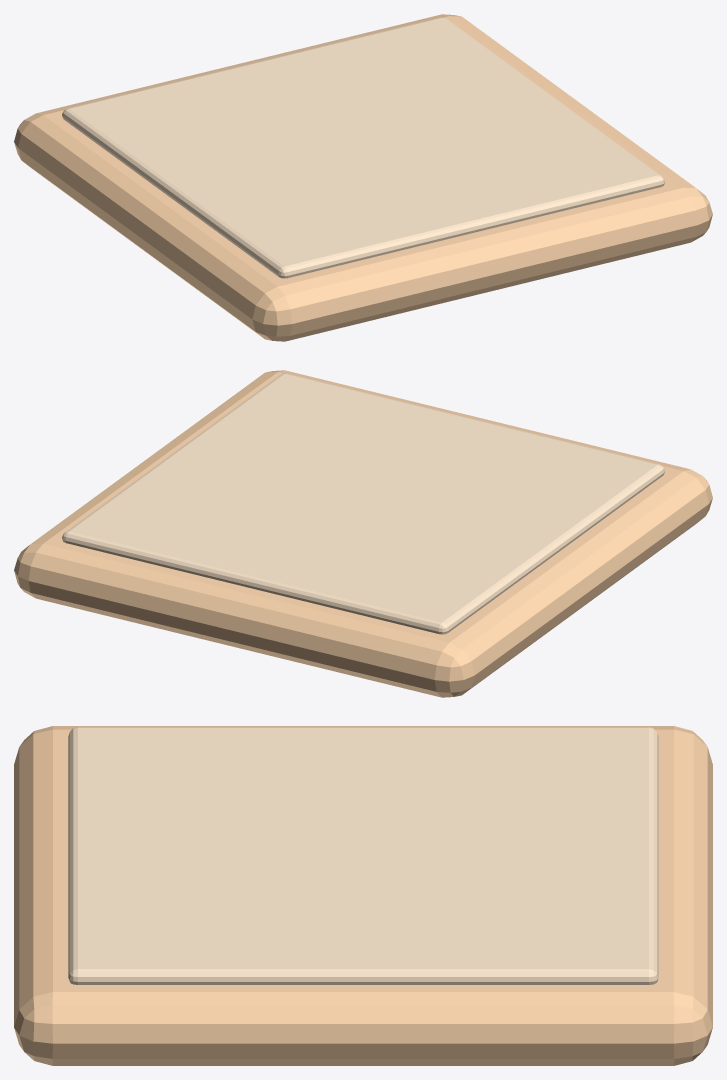
The model's file is PR3D_Tile_Ceramic.glb.
3 views of the same model, one above another, from view 1: azimuth 30°, elevation 25°; view 2: azimuth 150°, elevation 25°; view 3: azimuth 270°, elevation 25° (orthographic). The views are drawn at different scales.
Parts seen in each view (by area): view 1: PR3D003_Visual_TileInset, PR3D003_Visual_TileBase; view 2: PR3D003_Visual_TileInset, PR3D003_Visual_TileBase; view 3: PR3D003_Visual_TileInset, PR3D003_Visual_TileBase.
Part boxes in pixels (x1,y1,x2,y2): PR3D003_Visual_TileInset: (62,17,664,278); PR3D003_Visual_TileBase: (14,14,712,341); PR3D003_Visual_TileInset: (62,373,664,634); PR3D003_Visual_TileBase: (14,370,712,697); PR3D003_Visual_TileInset: (68,727,658,984); PR3D003_Visual_TileBase: (14,726,712,1065).
Bounding box in the file's own units: 0.9 × 0.1175 × 0.9.
